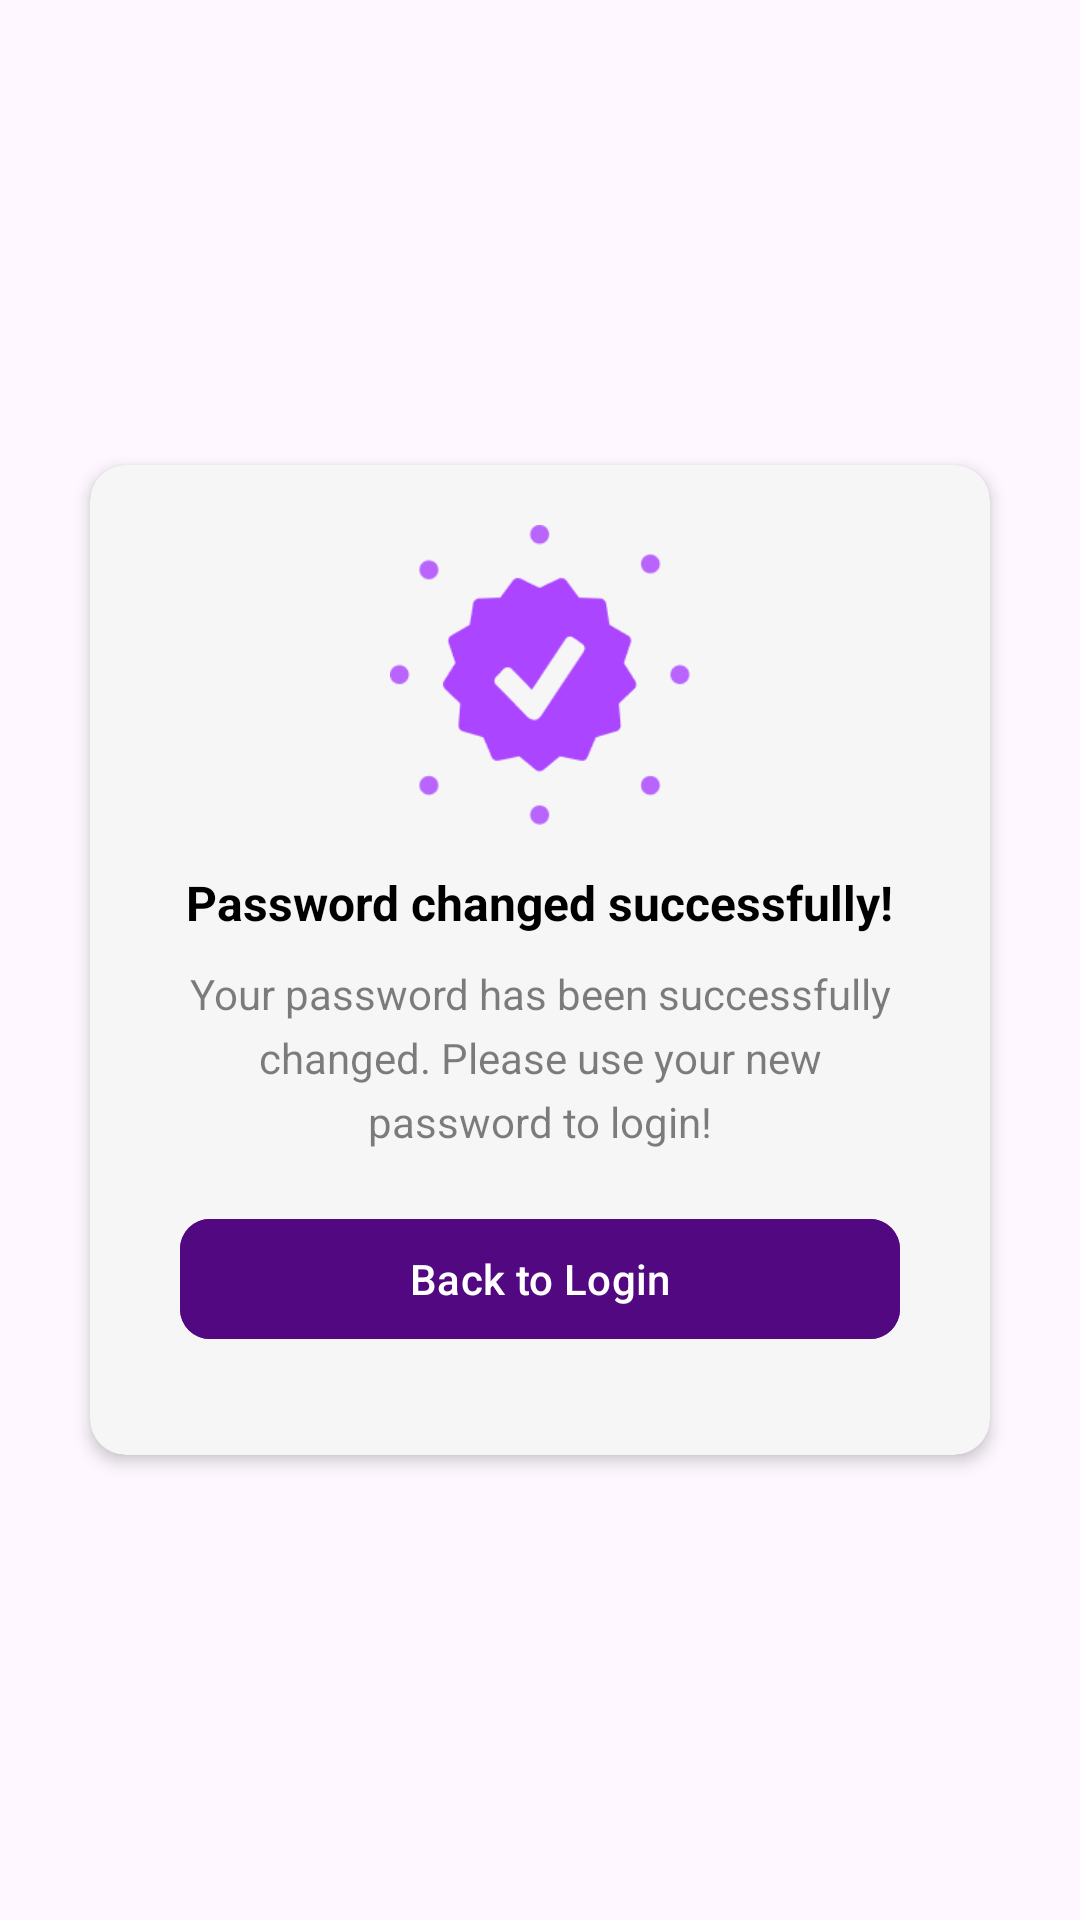

Screen size 1080 x 1920. Icon name, then its center in pixels as (x=x, y=y):
success pass: (x=540, y=675)
